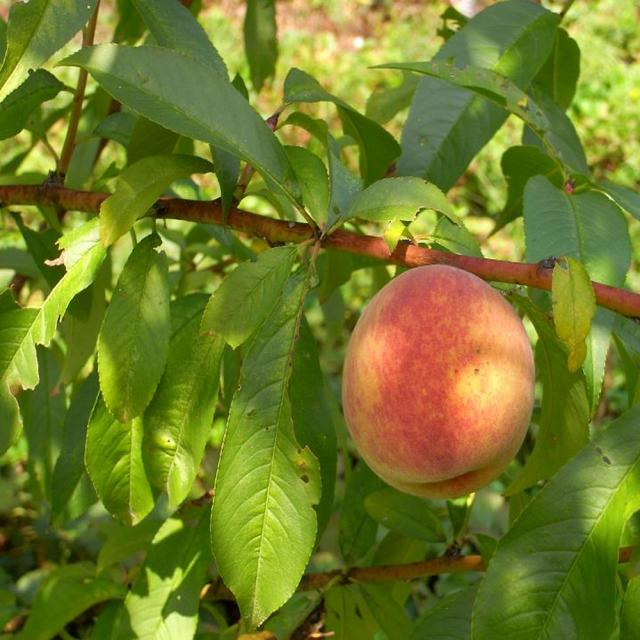peach: (337, 264, 536, 501)
